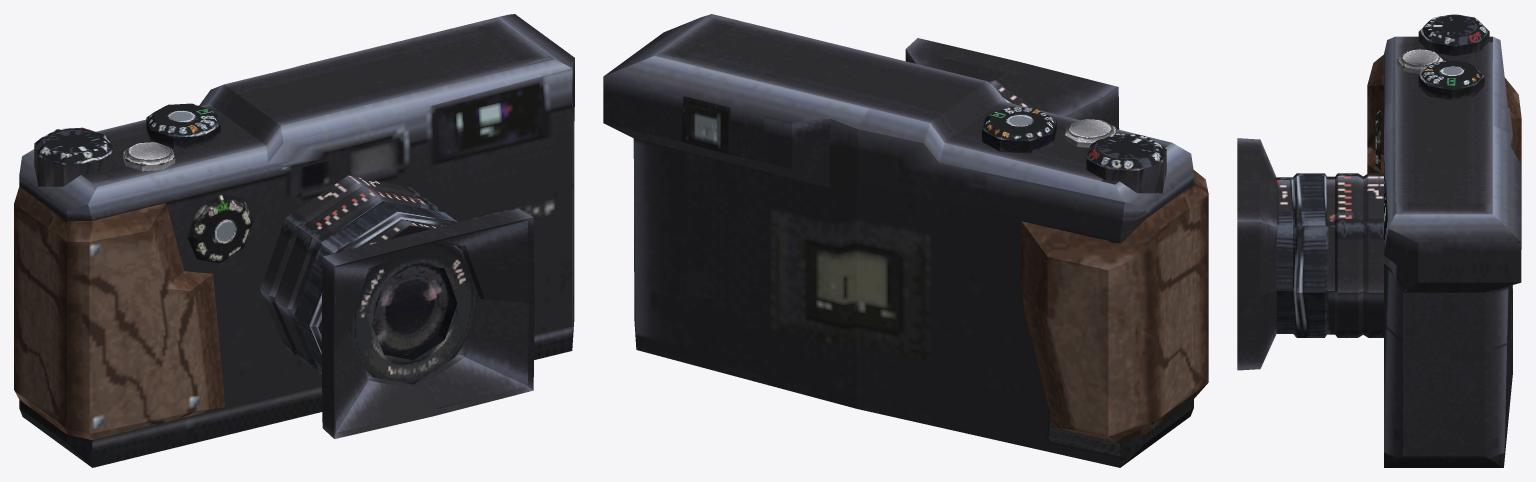
Rendered from cam1.fbx.
The picture shows the model from 3 angles, left to right: view 1: azimuth 30°, elevation 25°; view 2: azimuth 150°, elevation 25°; view 3: azimuth 270°, elevation 25°; orthographic projection. The views are drawn at different scales.
Parts seen in each view (by area): view 1: Cube; view 2: Cube; view 3: Cube.
Boxes of the visible parts, x1=… form: Cube: x1=14, y1=14, x2=574, y2=467; Cube: x1=603, y1=14, x2=1208, y2=467; Cube: x1=1237, y1=14, x2=1521, y2=467.
Size of the model in its own units: 387 by 205 by 212.
